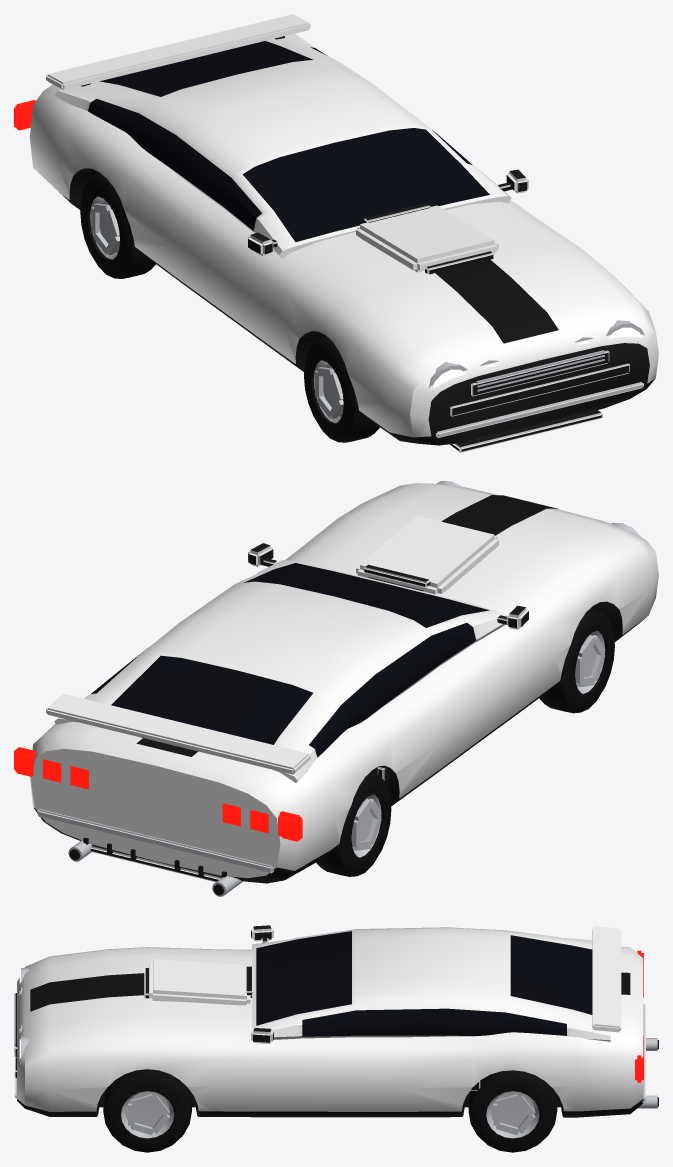
The model's file is car_muscle.glb.
3 views of the same model, one above another, from view 1: azimuth 30°, elevation 25°; view 2: azimuth 150°, elevation 25°; view 3: azimuth 270°, elevation 25° (orthographic). The views are drawn at different scales.
Parts seen in each view (by area): view 1: Body, Spin (×2); view 2: Body, Spin (×2), Taillights; view 3: Body, Spin (×2).
Boxes of the visible parts, x1,y1,x2,y2 form: Body: (29, 14, 658, 452); Spin (×2): (80, 174, 379, 442); Body: (30, 481, 658, 896); Spin (×2): (316, 607, 614, 876); Taillights: (14, 747, 302, 841); Body: (14, 925, 658, 1117); Spin (×2): (103, 1069, 557, 1152).
Size of the model in its own units: 2.07 by 1.24 by 4.94.
